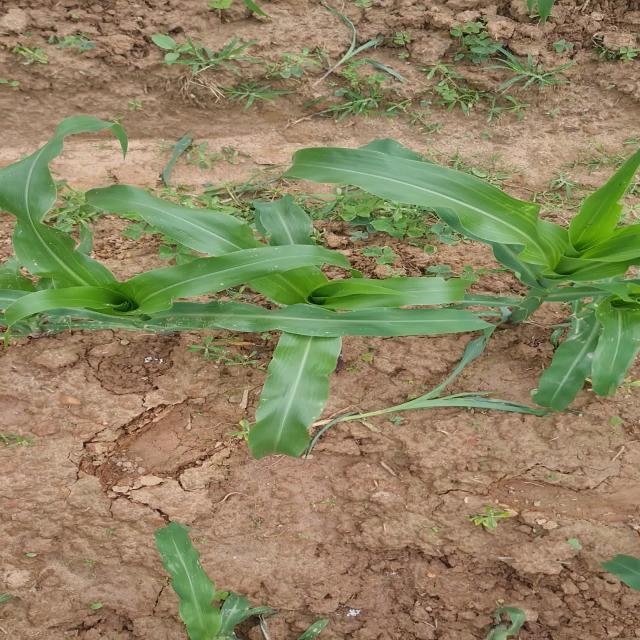maize: (243, 245, 480, 448), (12, 160, 225, 342), (459, 196, 640, 372), (139, 536, 290, 640)
weed: (80, 28, 640, 107), (527, 536, 639, 640), (335, 205, 403, 232)
